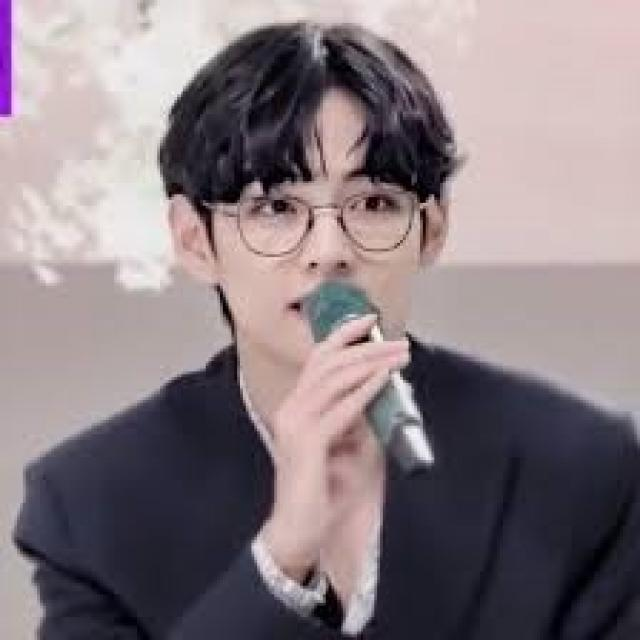Glasses: (186, 171, 437, 266)
